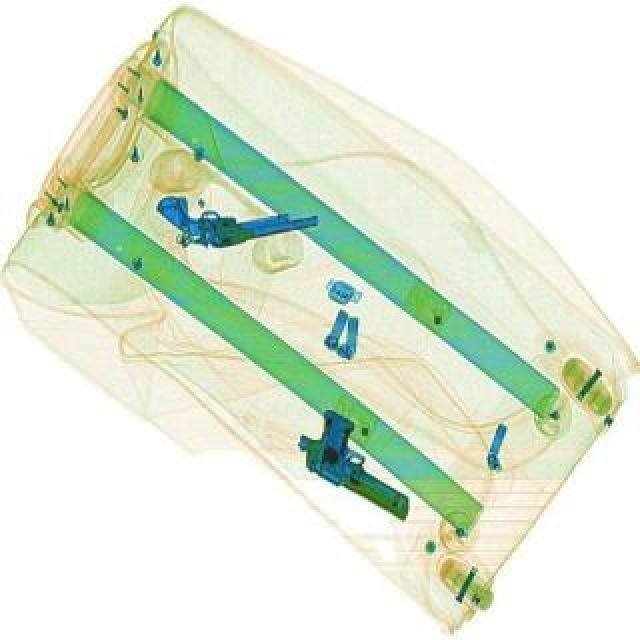gun: (284, 402, 436, 522), (152, 168, 320, 258)
